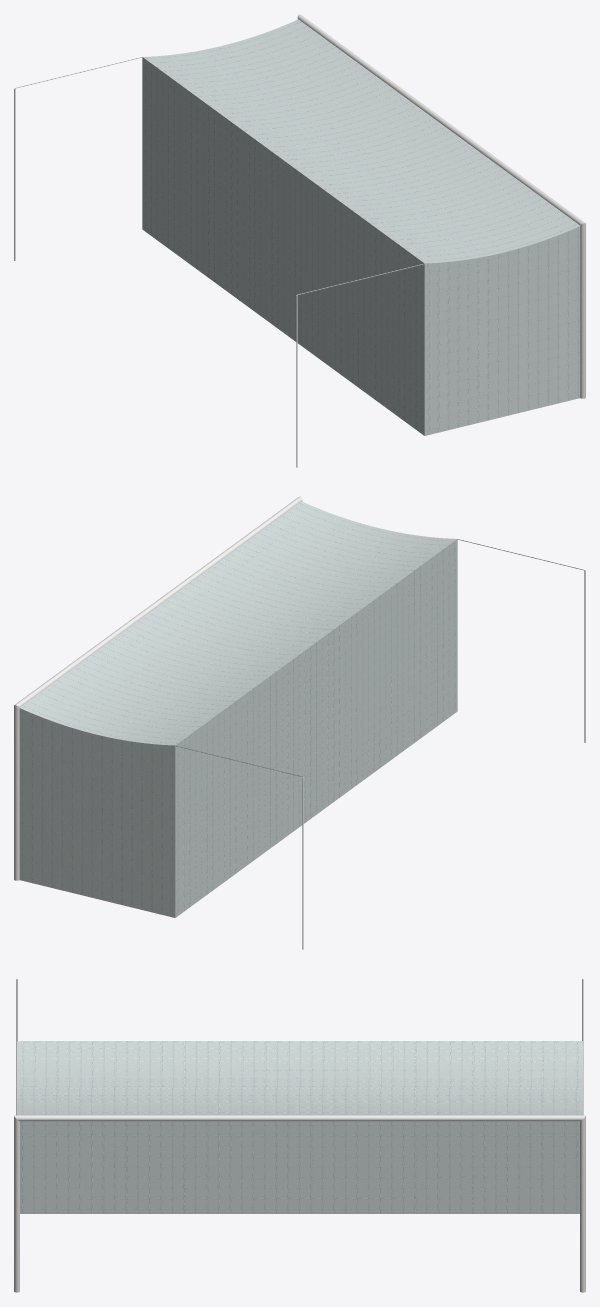
File: porteria.gltf
3 renders of one model, top to bottom at view 1: azimuth 30°, elevation 25°; view 2: azimuth 150°, elevation 25°; view 3: azimuth 270°, elevation 25°, orthographic.
Visible parts, largest first — view 1: SketchUp.001, SketchUp; view 2: SketchUp.001, SketchUp; view 3: SketchUp.001, SketchUp.
Part boxes in pixels (left/top/right/bottom): SketchUp.001: left=142, top=19, right=580, bottom=435; SketchUp: left=297, top=14, right=585, bottom=398; SketchUp.001: left=19, top=501, right=457, bottom=917; SketchUp: left=14, top=496, right=302, bottom=880; SketchUp.001: left=17, top=1041, right=582, bottom=1213; SketchUp: left=14, top=1115, right=585, bottom=1292.
Bounding box in the file's own units: 4.35 × 2.52 × 7.43.
Materials: 3 (2 with a texture image).
